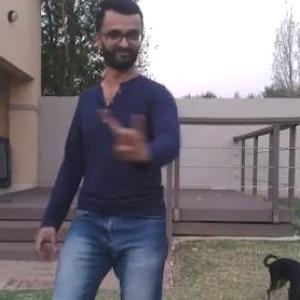takeoff-hand: (104, 109, 152, 164)
